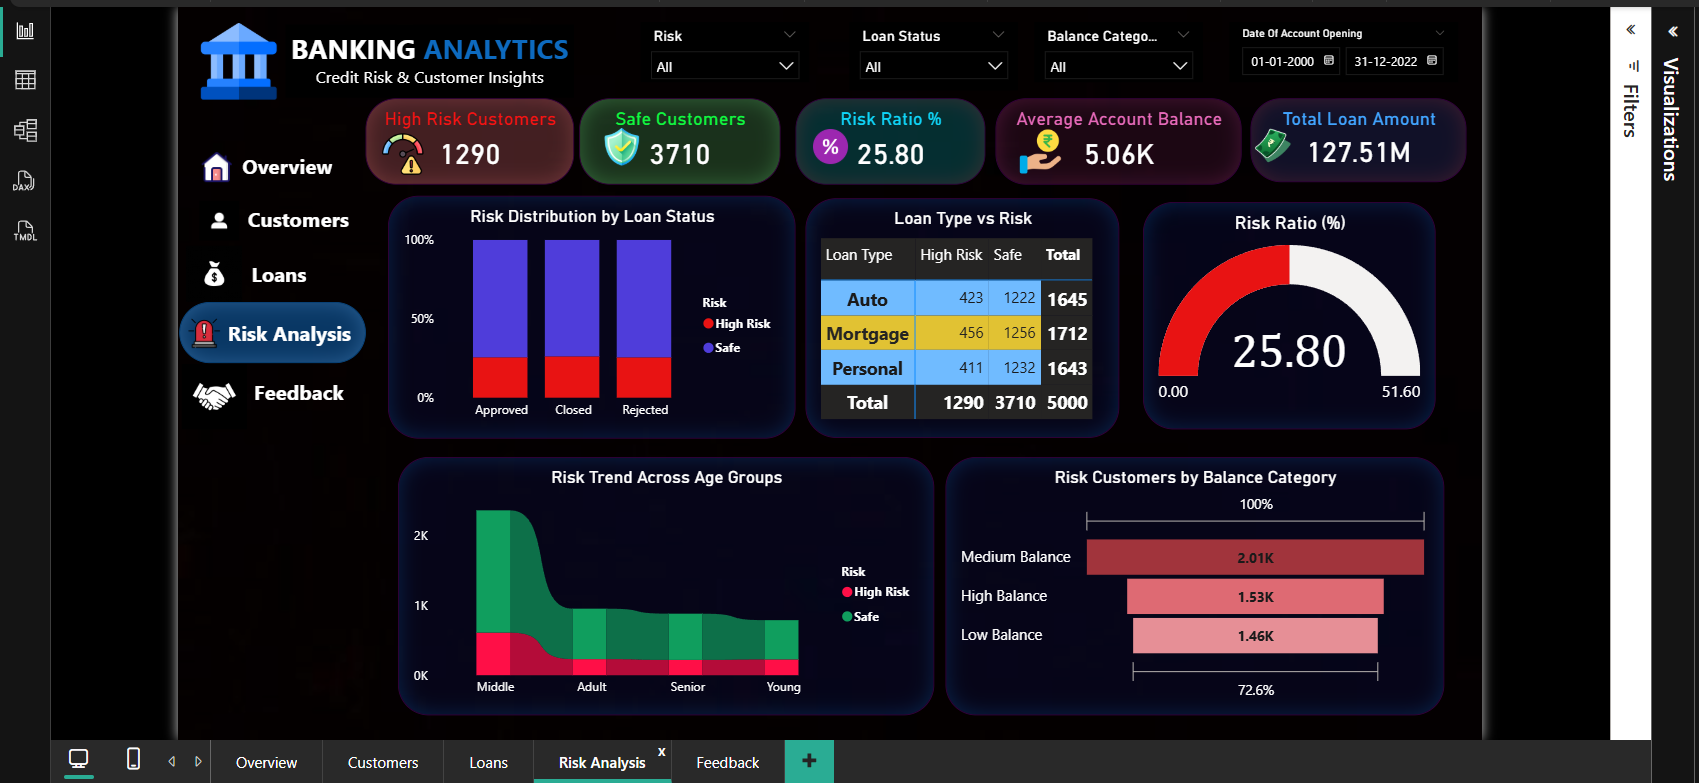

The page's visual inventory and layout, read from the dashboard file:
{"tool":"powerbi","page":{"name":"Risk Analysis","canvas":[1280,720],"ordinal":3},"visuals":[{"type":"textbox","box":[105.5,17.2,283.4,72.4],"z":0},{"type":"image","box":[22.1,6.1,74.8,94.5],"z":1000},{"type":"actionButton","box":[1.2,123.9,154.6,63.8],"z":2000},{"type":"actionButton","box":[6.1,181.6,165.6,52.8],"z":3000},{"type":"actionButton","box":[1.2,234.4,128.8,55.2],"z":4000},{"type":"actionButton","box":[1.2,289.6,182.8,60.1],"z":5000},{"type":"actionButton","box":[1.2,349.7,165.6,55.2],"z":6000},{"type":"image","box":[20.9,142.3,34.4,29.4],"z":7000},{"type":"image","box":[20.9,185.3,39.3,49.1],"z":8000},{"type":"image","box":[6.1,234.4,58.9,55.2],"z":9000},{"type":"image","box":[3.7,349.7,63.8,65],"z":10000},{"type":"image","box":[6.1,304.3,39.3,31.9],"z":11000},{"type":"slicer","fields":{"Values":["Banking_Analysis.Risk"]},"box":[454,14.7,165.6,58.9],"z":12000},{"type":"slicer","fields":{"Values":["Banking_Analysis.Loan Status"]},"box":[658.9,14.7,165.6,67.5],"z":13000},{"type":"slicer","fields":{"Values":["Banking_Analysis.Balance Category"]},"box":[840.5,14.7,165.6,58.9],"z":14000},{"type":"slicer","fields":{"Values":["Banking_Analysis.Date Of Account Opening"]},"box":[1031.9,14.7,224.5,58.9],"z":15000},{"type":"card","title":"High Risk Customers","fields":{"Values":["Banking_Analysis.High Risk Customers"]},"box":[184.1,89.6,204.9,84.7],"z":16000},{"type":"card","title":"Safe Customers","fields":{"Values":["Banking_Analysis.Safe Customers1"]},"box":[393.9,89.6,197.5,84.7],"z":17000},{"type":"card","title":"Risk Ratio %","fields":{"Values":["Banking_Analysis.Risk Ratio %"]},"box":[606.1,89.6,186.5,84.7],"z":18000},{"type":"card","title":"Average Account Balance","fields":{"Values":["Banking_Analysis.Average Account Balance"]},"box":[802.5,89.6,241.7,84.7],"z":19000},{"type":"card","title":"Total Loan Amount","fields":{"Values":["Banking_Analysis.Total Loan Amount"]},"box":[1052.8,89.6,212.3,82.2],"z":20000},{"type":"hundredPercentStackedColumnChart","title":"Risk Distribution by Loan Status","fields":{"Category":["Banking_Analysis.Loan Status"],"Series":["Banking_Analysis.Risk"],"Y":["CountNonNull(Banking_Analysis.Customer ID)"]},"box":[206.1,185.3,400,238],"z":21000},{"type":"ribbonChart","title":"Risk Trend Across Age Groups","fields":{"Category":["Banking_Analysis.Age Type"],"Series":["Banking_Analysis.Risk"],"Y":["CountNonNull(Banking_Analysis.Customer ID)"]},"box":[216,441.7,526.4,254],"z":22000},{"type":"funnel","title":"Risk Customers by Balance Category","fields":{"Category":["Banking_Analysis.Balance Category"],"Y":["CountNonNull(Banking_Analysis.Customer ID)"]},"box":[753.4,441.7,489.6,254],"z":23000},{"type":"pivotTable","title":"Loan Type vs Risk","fields":{"Rows":["Banking_Analysis.Loan Type"],"Columns":["Banking_Analysis.Risk"],"Values":["CountNonNull(Banking_Analysis.Loan Amount)"]},"box":[616,187.7,308,235.6],"z":24000},{"type":"gauge","title":"Risk Ratio (%)","fields":{"Y":["Banking_Analysis.Risk Ratio %"]},"box":[947.2,191.4,287.1,223.3],"z":25000},{"type":"image","box":[193.9,123.9,54,40.5],"z":26000},{"type":"image","box":[623.3,116.6,34.4,40.5],"z":27000},{"type":"image","box":[824.5,120.2,44.2,42.9],"z":28000},{"type":"image","box":[1052.8,116.6,44.2,39.3],"z":29000},{"type":"image","box":[417.2,109.2,36.8,55.2],"z":30000}]}

Visuals, with their boxes on the page's 1280x720 design canvas (x1, y1, x2, y2). These are canvas units, not pixel positions in the 1699x783 screenshot, which may show the page scaled, cropped or inside an application window:
textbox: left=106, top=17, right=389, bottom=90
image: left=22, top=6, right=97, bottom=101
actionButton: left=1, top=124, right=156, bottom=188
actionButton: left=6, top=182, right=172, bottom=234
actionButton: left=1, top=234, right=130, bottom=290
actionButton: left=1, top=290, right=184, bottom=350
actionButton: left=1, top=350, right=167, bottom=405
image: left=21, top=142, right=55, bottom=172
image: left=21, top=185, right=60, bottom=234
image: left=6, top=234, right=65, bottom=290
image: left=4, top=350, right=68, bottom=415
image: left=6, top=304, right=45, bottom=336
slicer - Banking_Analysis.Risk: left=454, top=15, right=620, bottom=74
slicer - Banking_Analysis.Loan Status: left=659, top=15, right=824, bottom=82
slicer - Banking_Analysis.Balance Category: left=840, top=15, right=1006, bottom=74
slicer - Banking_Analysis.Date Of Account Opening: left=1032, top=15, right=1256, bottom=74
"High Risk Customers" card: left=184, top=90, right=389, bottom=174
"Safe Customers" card: left=394, top=90, right=591, bottom=174
"Risk Ratio %" card: left=606, top=90, right=793, bottom=174
"Average Account Balance" card: left=802, top=90, right=1044, bottom=174
"Total Loan Amount" card: left=1053, top=90, right=1265, bottom=172
"Risk Distribution by Loan Status" hundredPercentStackedColumnChart: left=206, top=185, right=606, bottom=423
"Risk Trend Across Age Groups" ribbonChart: left=216, top=442, right=742, bottom=696
"Risk Customers by Balance Category" funnel: left=753, top=442, right=1243, bottom=696
"Loan Type vs Risk" pivotTable: left=616, top=188, right=924, bottom=423
"Risk Ratio (%)" gauge: left=947, top=191, right=1234, bottom=415
image: left=194, top=124, right=248, bottom=164
image: left=623, top=117, right=658, bottom=157
image: left=824, top=120, right=869, bottom=163
image: left=1053, top=117, right=1097, bottom=156
image: left=417, top=109, right=454, bottom=164
